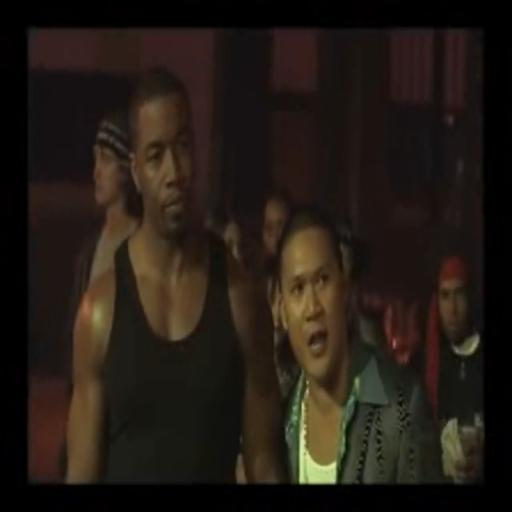nao-violencia: (59, 65, 440, 486)
